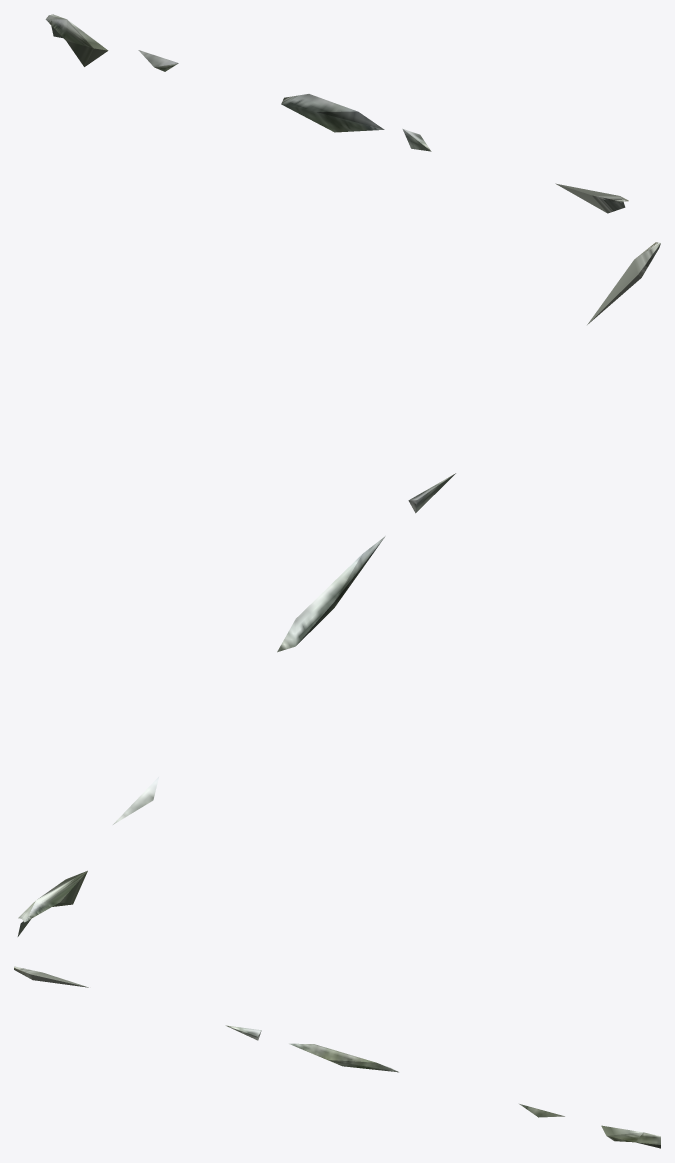
3 renders of one model, top to bottom at view 1: azimuth 30°, elevation 25°; view 2: azimuth 150°, elevation 25°; view 3: azimuth 270°, elevation 25°, orthographic. The views are drawn at different scales.
Bounding box in the file's own units: 0.4426 × 1.64 × 5.9.
1 material, 1 textured.
